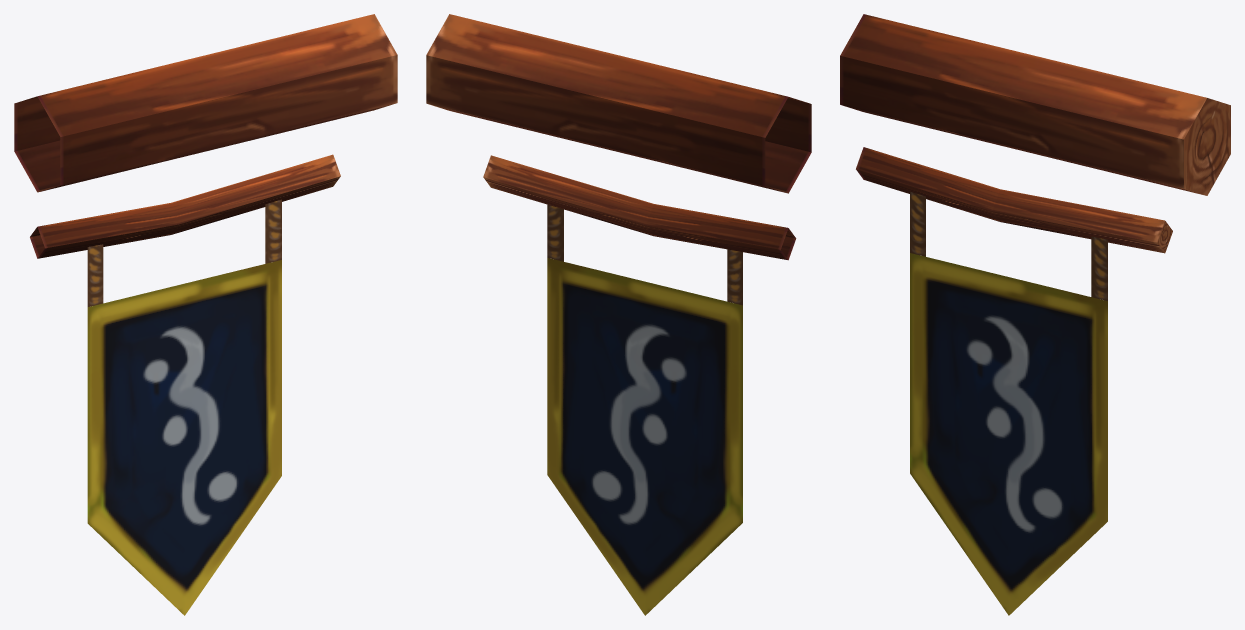
The model's file is QiZi01.FBX.
The picture shows the model from 3 angles, left to right: view 1: azimuth 30°, elevation 25°; view 2: azimuth 150°, elevation 25°; view 3: azimuth 330°, elevation 25°; orthographic projection.
Visible parts, largest first — view 1: qi_01; view 2: qi_01; view 3: qi_01.
Boxes of the visible parts, bbox=[...] form: qi_01: bbox=[14, 14, 397, 615]; qi_01: bbox=[426, 14, 811, 615]; qi_01: bbox=[840, 14, 1230, 615].
Size of the model in its own units: 59.18 by 92.8 by 13.99.
